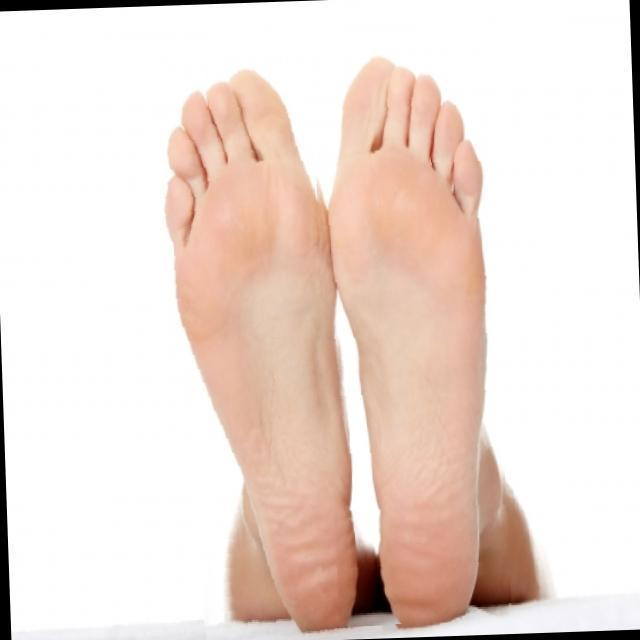No_Shoes: (134, 61, 365, 640), (316, 39, 523, 640)
